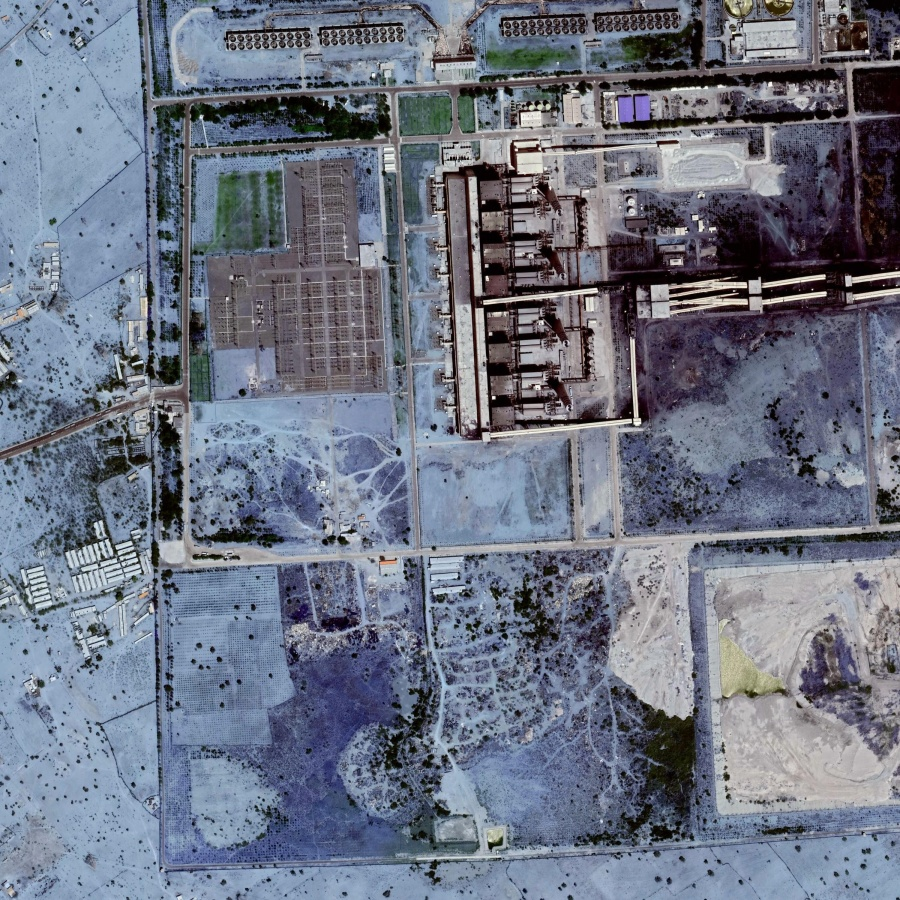PowerPlant: (438, 144, 637, 429)
